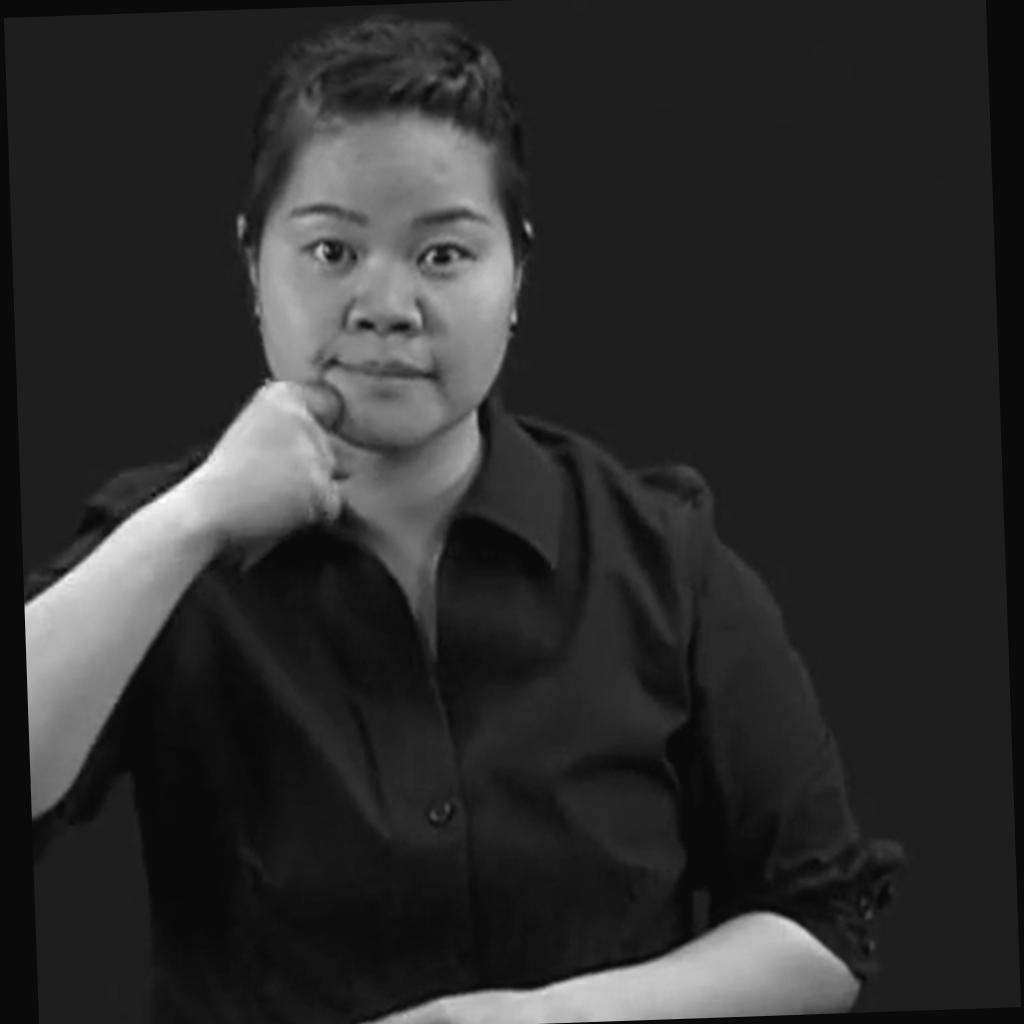apple: (200, 377, 346, 544)
